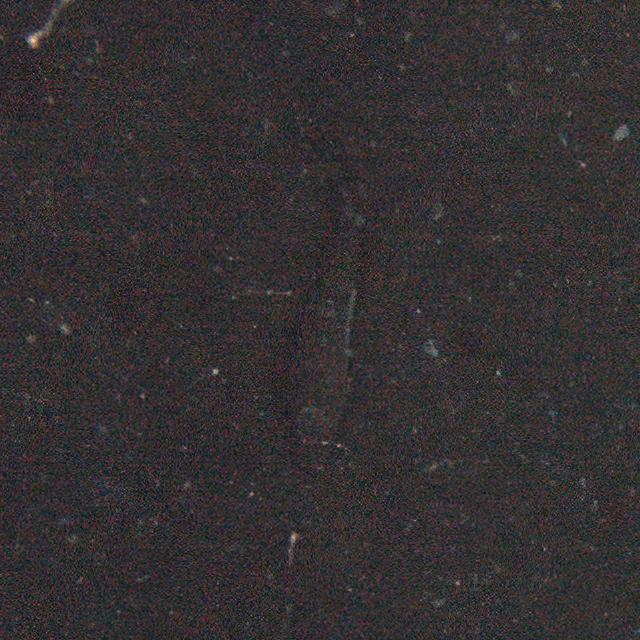roundfish: (278, 178, 368, 460)
